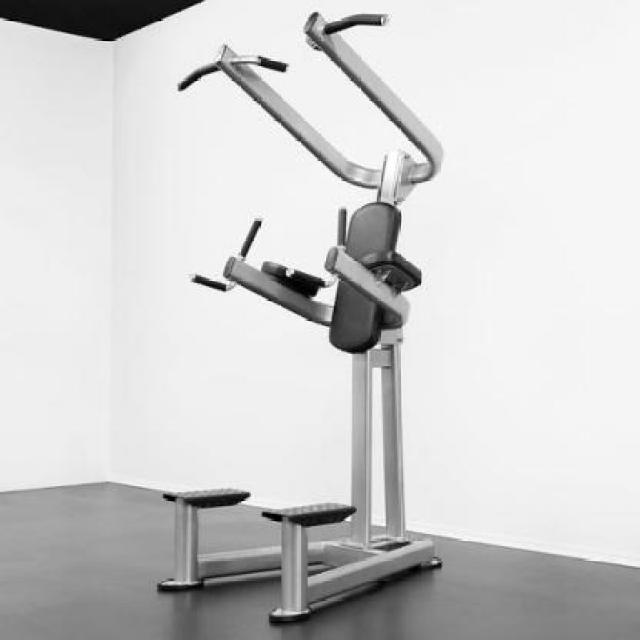chinning dipping: (177, 6, 445, 628)
